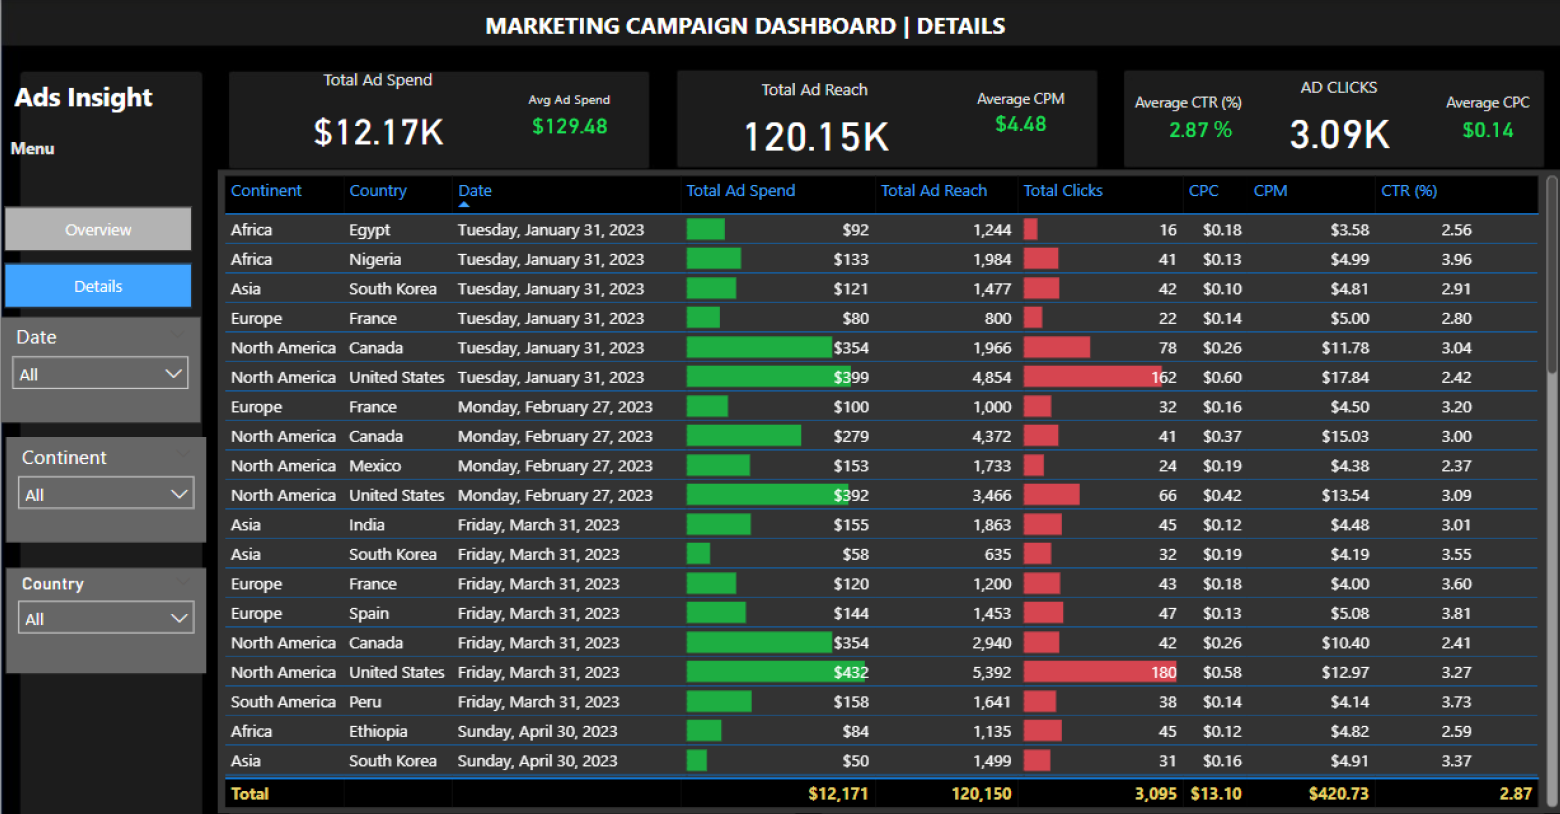

What the dashboard file says about the page in this screenshot:
{"tool":"powerbi","page":{"name":"Details","canvas":[1280,720],"ordinal":1},"visuals":[{"type":"shape","box":[0,73.2,195.6,63.6],"z":1000},{"type":"shape","box":[0,0,1280.4,62],"z":1500},{"type":"shape","box":[208.4,74.8,345.2,60.4],"z":2000},{"type":"shape","box":[566.3,73.2,345.2,62],"z":3000},{"type":"shape","box":[923.7,73.2,356.3,62],"z":4000},{"type":"shape","box":[208.4,151.1,1060.9,558.3],"z":5000},{"type":"shape","box":[0,151.1,195.6,569.4],"z":6000},{"type":"card","title":"Total Ad Spent","fields":{"Values":["Formulas.Total Amount Spent"]},"box":[227.5,73.2,171.8,62],"z":7000},{"type":"card","title":"Ads Clicks","fields":{"Values":["Formulas.Total Ad Clicks"]},"box":[1022.8,74.8,159.1,62],"z":8000},{"type":"card","title":"Total Ad Reach","fields":{"Values":["Formulas.Total Ad Reach"]},"box":[617.2,73.2,160.7,62],"z":9000},{"type":"card","title":"Avg Ad Spent","fields":{"Values":["Formulas.Avg Ad Spend"]},"box":[439,73.2,114.5,62],"z":10000},{"type":"card","title":"Avg CPM","fields":{"Values":["Formulas.Avg CPM"]},"box":[793.7,73.2,117.7,62],"z":11000},{"type":"card","title":"Avg CTR","fields":{"Values":["Formulas.Avg CTR"]},"box":[924.1,74.8,117.7,62],"z":12000},{"type":"card","title":"Avg CPC","fields":{"Values":["Formulas.Avg CPC"]},"box":[1162.7,74.8,117.7,62],"z":13000},{"type":"textbox","box":[439,14.3,544,47.7],"z":14000},{"type":"textbox","box":[0,74.8,195.6,49.3],"z":15000},{"type":"slicer","fields":{"Values":["Dataset.Month"]},"box":[3.2,279.9,195.6,93.8],"z":16000},{"type":"slicer","fields":{"Values":["Dataset.Continent"]},"box":[3.2,431.1,195.6,93.8],"z":17000},{"type":"slicer","fields":{"Values":["Dataset.Country"]},"box":[4.8,571,195.6,93.8],"z":18000},{"type":"pageNavigator","box":[4.8,160.7,190.9,98.6],"z":20000},{"type":"tableEx","fields":{"Values":["Dataset.Continent","Dataset.Country","Dataset.Date.Variation.Date Hierarchy.Year","Dataset.Date.Variation.Date Hierarchy.Quarter","Dataset.Date.Variation.Date Hierarchy.Month","Dataset.Date.Variation.Date Hierarchy.Day","Formulas.Total Ad Spent","Formulas.Total Ad Reach","Formulas.Total Ad Clicks","Formulas.Avg Ad Spend","Formulas.Avg CPM","Formulas.Avg CPC"]},"box":[208.4,151.1,1060.9,558.3],"z":20001}]}

Visuals, with their boxes on the page's 1280x720 design canvas (x1, y1, x2, y2). These are canvas units, not pixel positions in the 1560x814 screenshot, which may show the page scaled, cropped or inside an application window:
shape: (x1=0, y1=73, x2=196, y2=137)
shape: (x1=0, y1=0, x2=1280, y2=62)
shape: (x1=208, y1=75, x2=554, y2=135)
shape: (x1=566, y1=73, x2=912, y2=135)
shape: (x1=924, y1=73, x2=1280, y2=135)
shape: (x1=208, y1=151, x2=1269, y2=709)
shape: (x1=0, y1=151, x2=196, y2=720)
"Total Ad Spent" card: (x1=228, y1=73, x2=399, y2=135)
"Ads Clicks" card: (x1=1023, y1=75, x2=1182, y2=137)
"Total Ad Reach" card: (x1=617, y1=73, x2=778, y2=135)
"Avg Ad Spent" card: (x1=439, y1=73, x2=554, y2=135)
"Avg CPM" card: (x1=794, y1=73, x2=911, y2=135)
"Avg CTR" card: (x1=924, y1=75, x2=1042, y2=137)
"Avg CPC" card: (x1=1163, y1=75, x2=1280, y2=137)
textbox: (x1=439, y1=14, x2=983, y2=62)
textbox: (x1=0, y1=75, x2=196, y2=124)
slicer - Dataset.Month: (x1=3, y1=280, x2=199, y2=374)
slicer - Dataset.Continent: (x1=3, y1=431, x2=199, y2=525)
slicer - Dataset.Country: (x1=5, y1=571, x2=200, y2=665)
pageNavigator: (x1=5, y1=161, x2=196, y2=259)
tableEx - Dataset.Continent x Dataset.Country: (x1=208, y1=151, x2=1269, y2=709)
